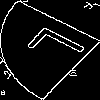L: (25, 24, 99, 74)
